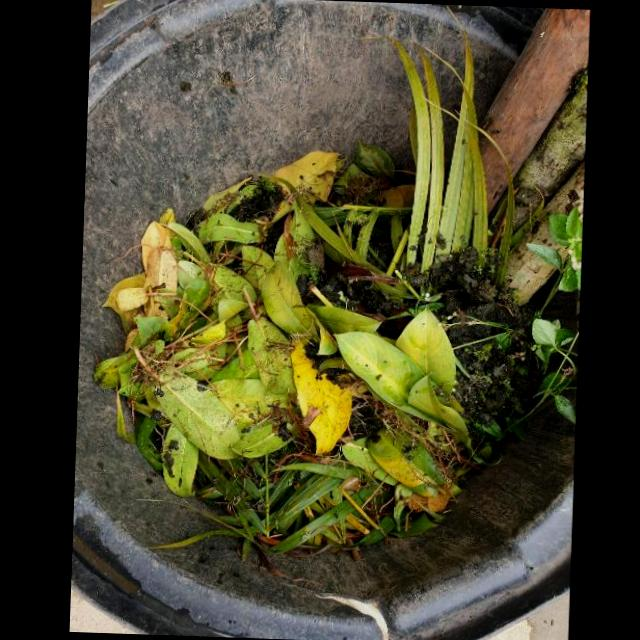la_cay: (332, 331, 470, 447), (393, 40, 431, 265), (435, 105, 487, 254), (242, 255, 324, 347), (290, 342, 350, 461), (153, 377, 239, 460), (342, 435, 450, 499), (270, 491, 376, 555), (264, 462, 364, 529), (296, 198, 381, 269), (435, 88, 468, 262), (419, 48, 444, 274), (526, 208, 582, 308), (393, 309, 457, 392), (477, 128, 514, 266), (246, 317, 297, 408), (188, 268, 254, 332), (271, 204, 317, 294), (272, 150, 342, 207), (227, 416, 314, 461), (140, 225, 180, 322), (304, 296, 384, 337), (523, 360, 575, 421), (204, 378, 269, 425), (161, 426, 199, 496), (531, 318, 574, 374), (187, 214, 259, 247), (348, 141, 395, 186), (460, 26, 474, 102)
